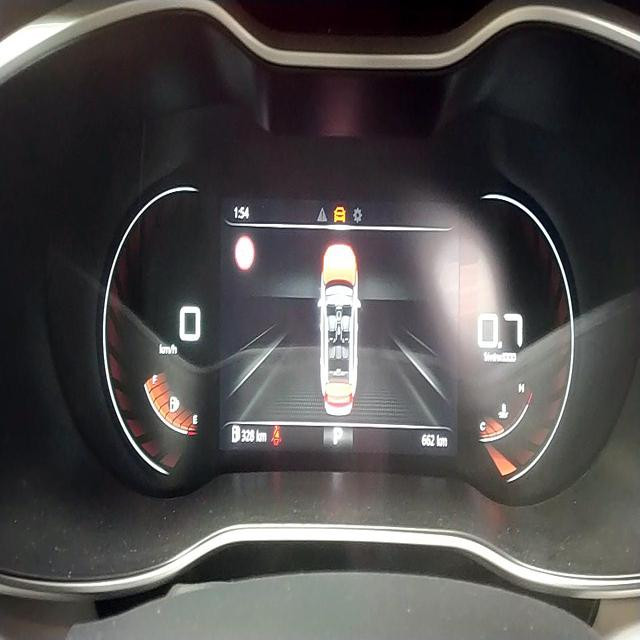odometer: (420, 431, 435, 448)
